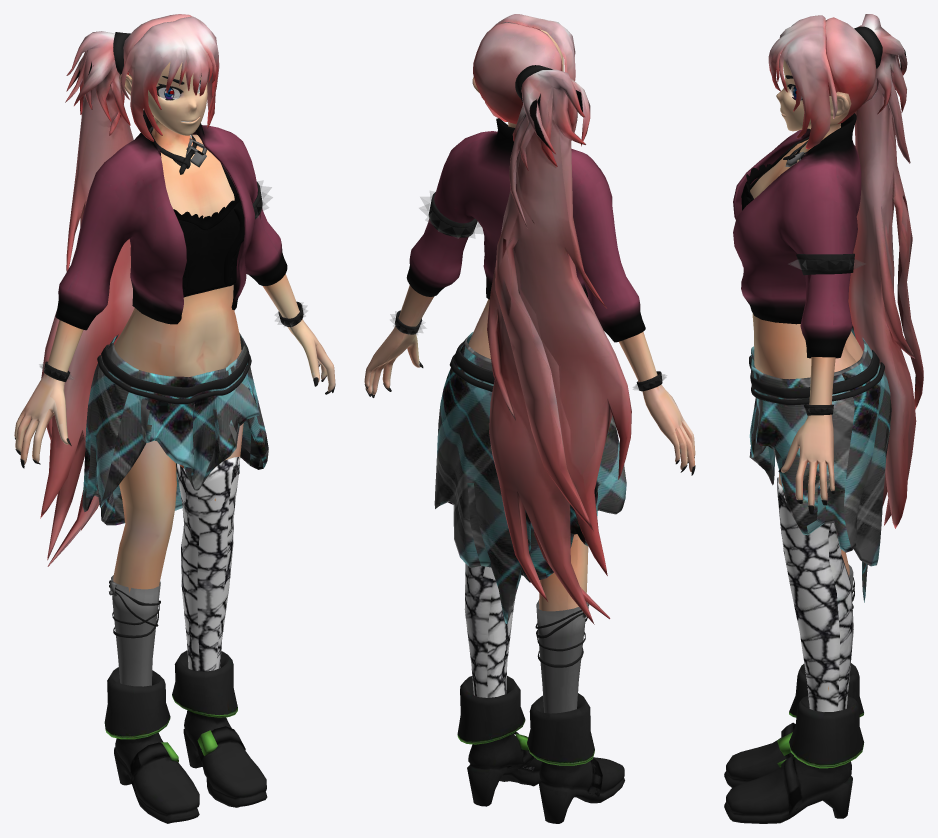
File: luka.glb
3 renders of one model, left to right at view 1: azimuth 30°, elevation 25°; view 2: azimuth 150°, elevation 25°; view 3: azimuth 270°, elevation 25°, orthographic. The views are drawn at different scales.
Parts seen in each view (by area): view 1: Body_0, Body_11, Body_6, Body_12, Body_3, Body_8; view 2: Body_12, Body_0, Body_6, Body_11, Body_3, Body_8; view 3: Body_0, Body_12, Body_6, Body_3, Body_11, Body_8.
Part boxes in pixels (x1,y1,x2,y2): Body_0: [55, 109, 287, 525]; Body_11: [14, 61, 335, 592]; Body_6: [15, 32, 335, 823]; Body_12: [25, 14, 219, 566]; Body_3: [177, 456, 240, 671]; Body_8: [39, 180, 307, 379]; Body_12: [473, 14, 631, 624]; Body_0: [406, 118, 645, 623]; Body_6: [364, 65, 695, 823]; Body_11: [364, 29, 695, 611]; Body_3: [464, 563, 535, 770]; Body_8: [390, 191, 666, 390]; Body_0: [733, 113, 891, 602]; Body_12: [768, 14, 923, 528]; Body_6: [724, 26, 884, 823]; Body_3: [777, 477, 853, 711]; Body_11: [750, 59, 863, 690]; Body_8: [788, 259, 865, 412].
Size of the model in its own units: 3.75 by 8.67 by 2.02.
Materials: 8 (7 with a texture image).
